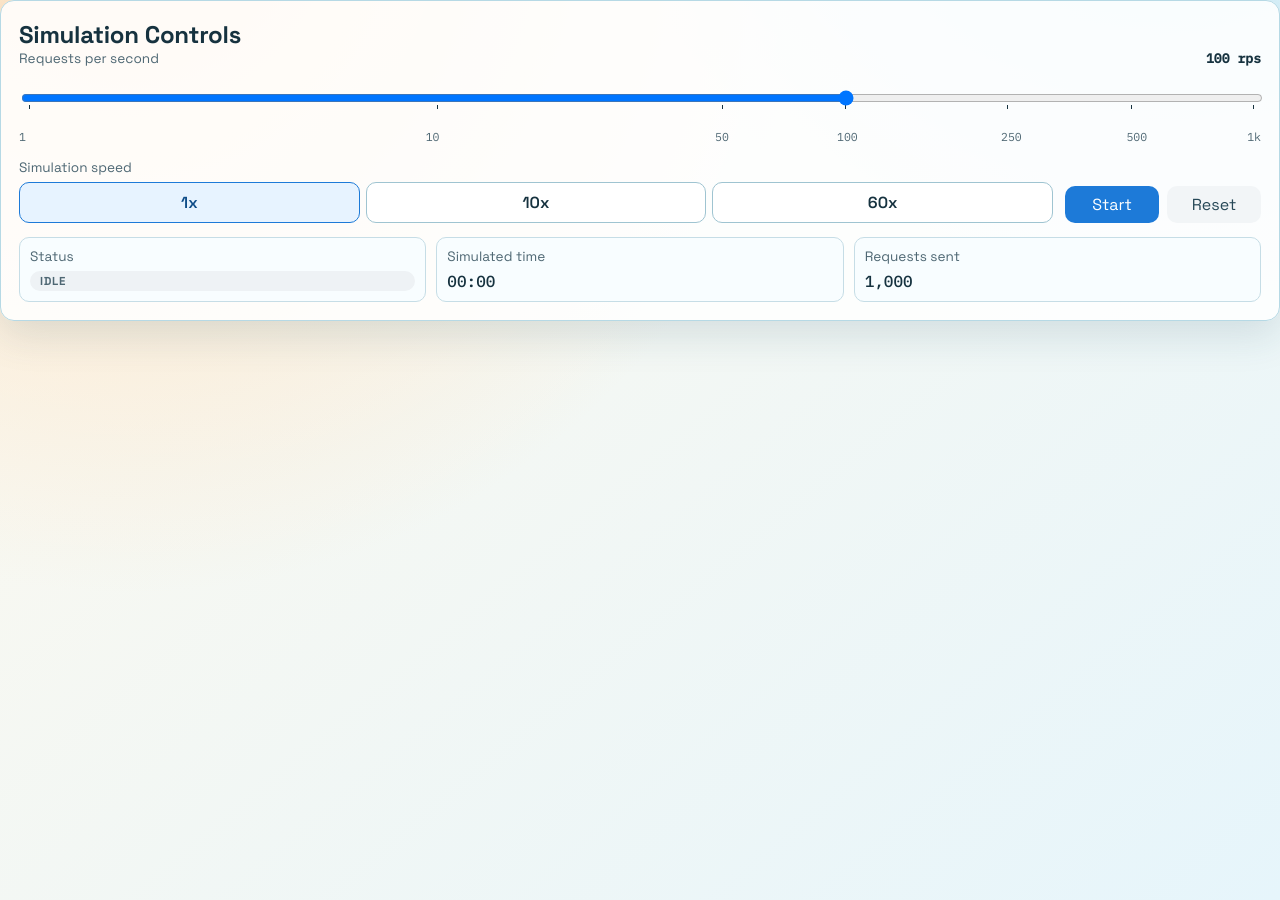
Test: ControlsPanel › updates RPS from a single slider control
Expected: the text "100 rps" is shown, [1206,50,1261,67]
Set the slider named "Requests per second" to "1000" at (1255,98), box [21,77,1263,119]
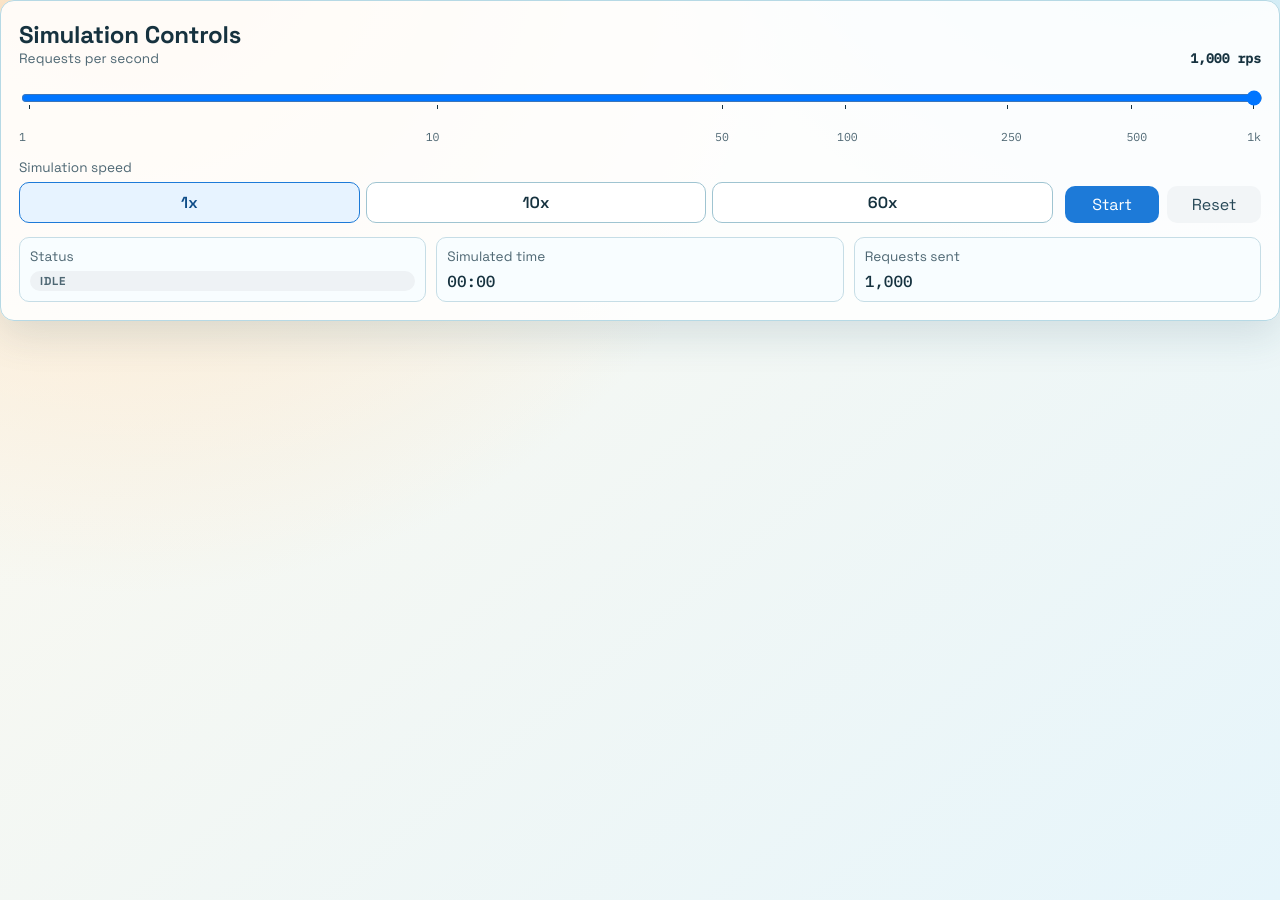
Now the text "1,000 rps" is shown, box [1190,50,1261,67]
